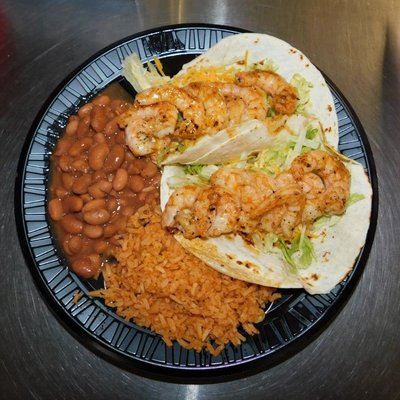curry: (16, 1, 400, 384)
